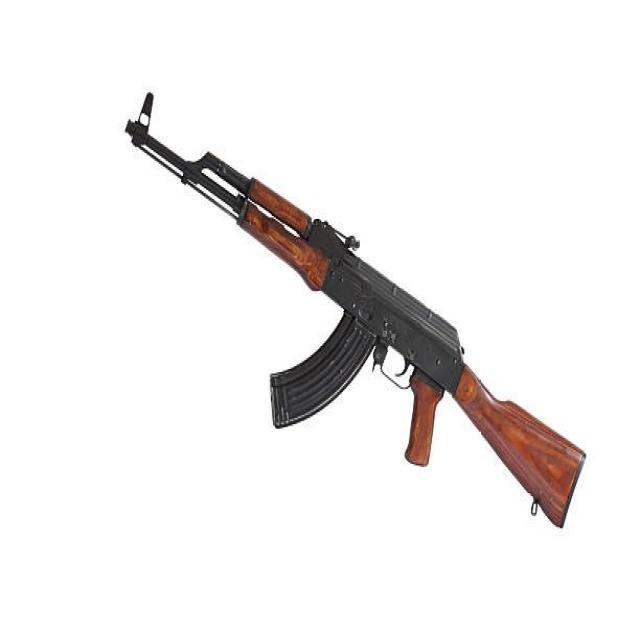rifle: (113, 79, 588, 542)
